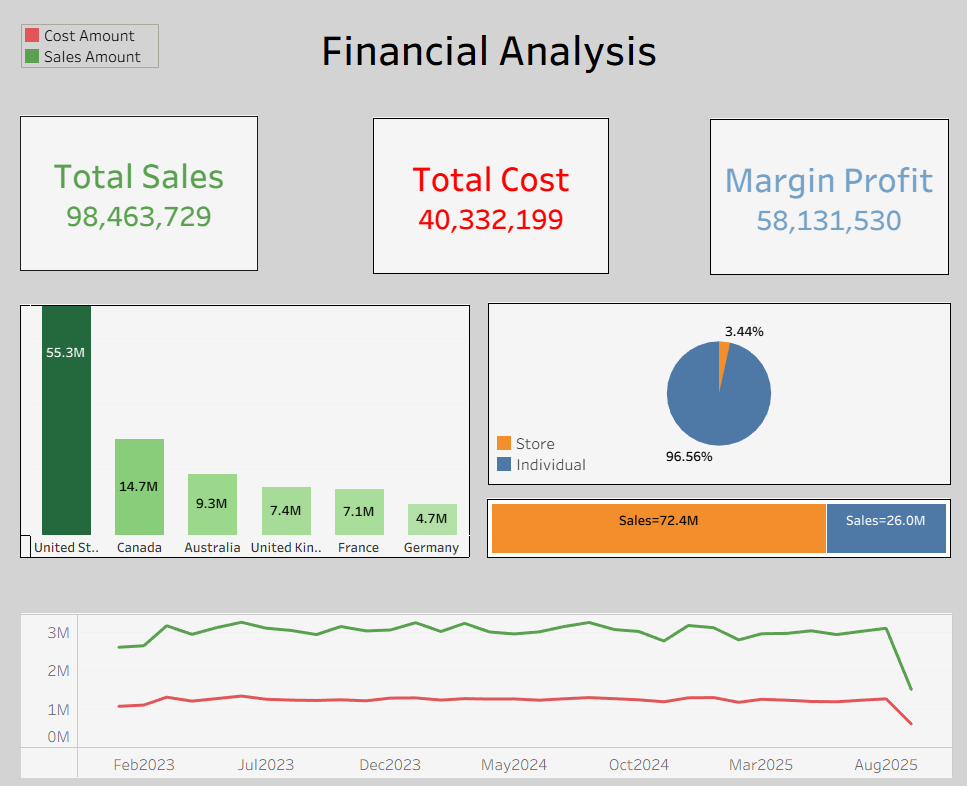

The page's visual inventory and layout, read from the dashboard file:
{"tool":"tableau","page":{"name":"Dashboard 2","canvas":[1000,800],"ordinal":0},"visuals":[{"type":"text","box":[5,11,988,91]},{"type":"legend","title":"Order_Date","param":"[federated.0cjtsf804fk38q12bdzj91latsjl].[:Measure Names]","box":[27,28,146,52]},{"type":"worksheet","title":"Total_Sales","mark":"Automatic","box":[30,109,238,170]},{"type":"worksheet","title":"Total_Cost","mark":"Automatic","box":[383,111,236,171]},{"type":"worksheet","title":"Margin_Profit","mark":"Automatic","box":[720,112,239,171]},{"type":"worksheet","title":"Channel","mark":"Pie","box":[498,296,470,198]},{"type":"worksheet","title":"Country","mark":"Bar","rows":["SalesAmount"],"cols":["Country"],"box":[30,298,450,268]},{"type":"legend","title":"Channel","param":"[federated.0cjtsf804fk38q12bdzj91latsjl].[none:Channel:nk]","box":[504,441,131,46]},{"type":"worksheet","title":"Channel2","mark":"Automatic","box":[497,492,471,74]},{"type":"worksheet","title":"Order_Date","mark":"Automatic","rows":["SalesAmount","CostAmount"],"cols":["OrderDate"],"box":[31,607,932,179]}]}

Visuals, with their boxes in screenshot pixels (x1, y1, x2, y2), scaled from the page's 1000x800 canvas onto the 967x786 screenshot:
text: detection(5, 11, 960, 100)
"Order_Date" legend: detection(26, 28, 167, 79)
"Total_Sales" worksheet: detection(29, 107, 259, 274)
"Total_Cost" worksheet: detection(370, 109, 599, 277)
"Margin_Profit" worksheet: detection(696, 110, 927, 278)
"Channel" worksheet (Pie marks): detection(482, 291, 936, 485)
"Country" worksheet (Bar marks): detection(29, 293, 464, 556)
"Channel" legend: detection(487, 433, 614, 478)
"Channel2" worksheet: detection(481, 483, 936, 556)
"Order_Date" worksheet: detection(30, 596, 931, 772)
